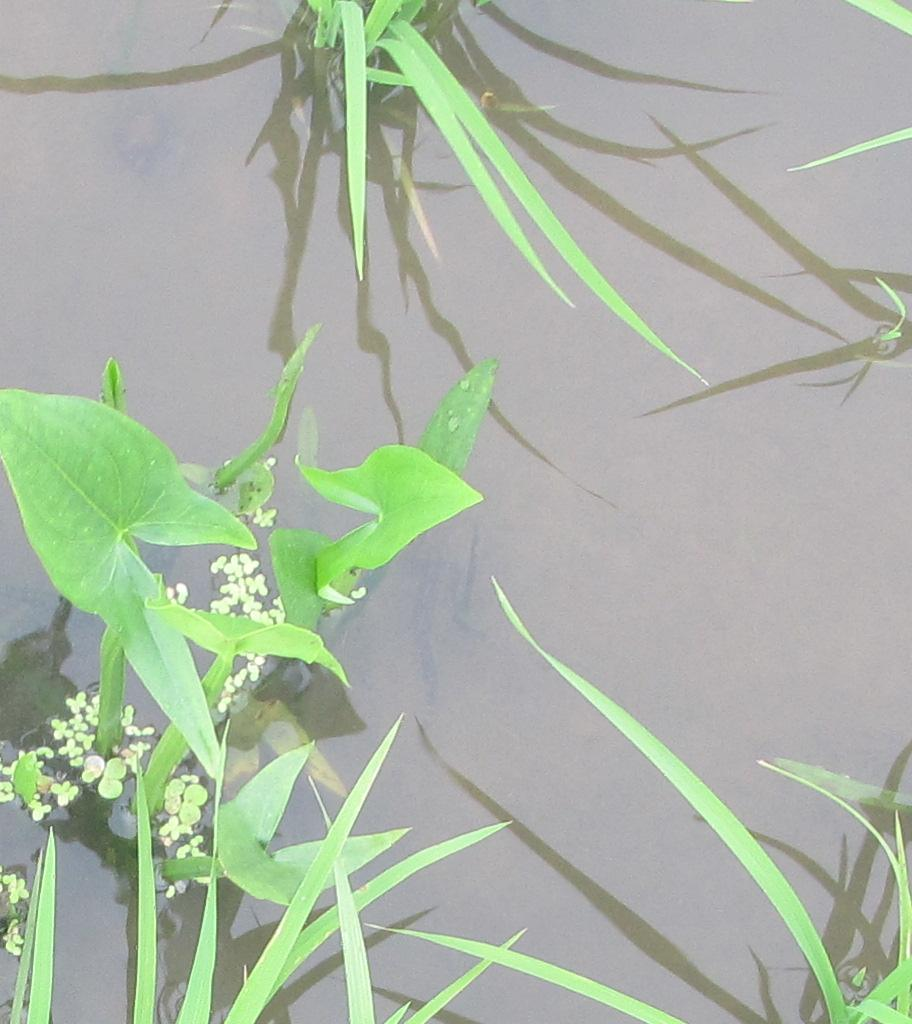Weed: (5, 375, 260, 642), (294, 447, 496, 580)
